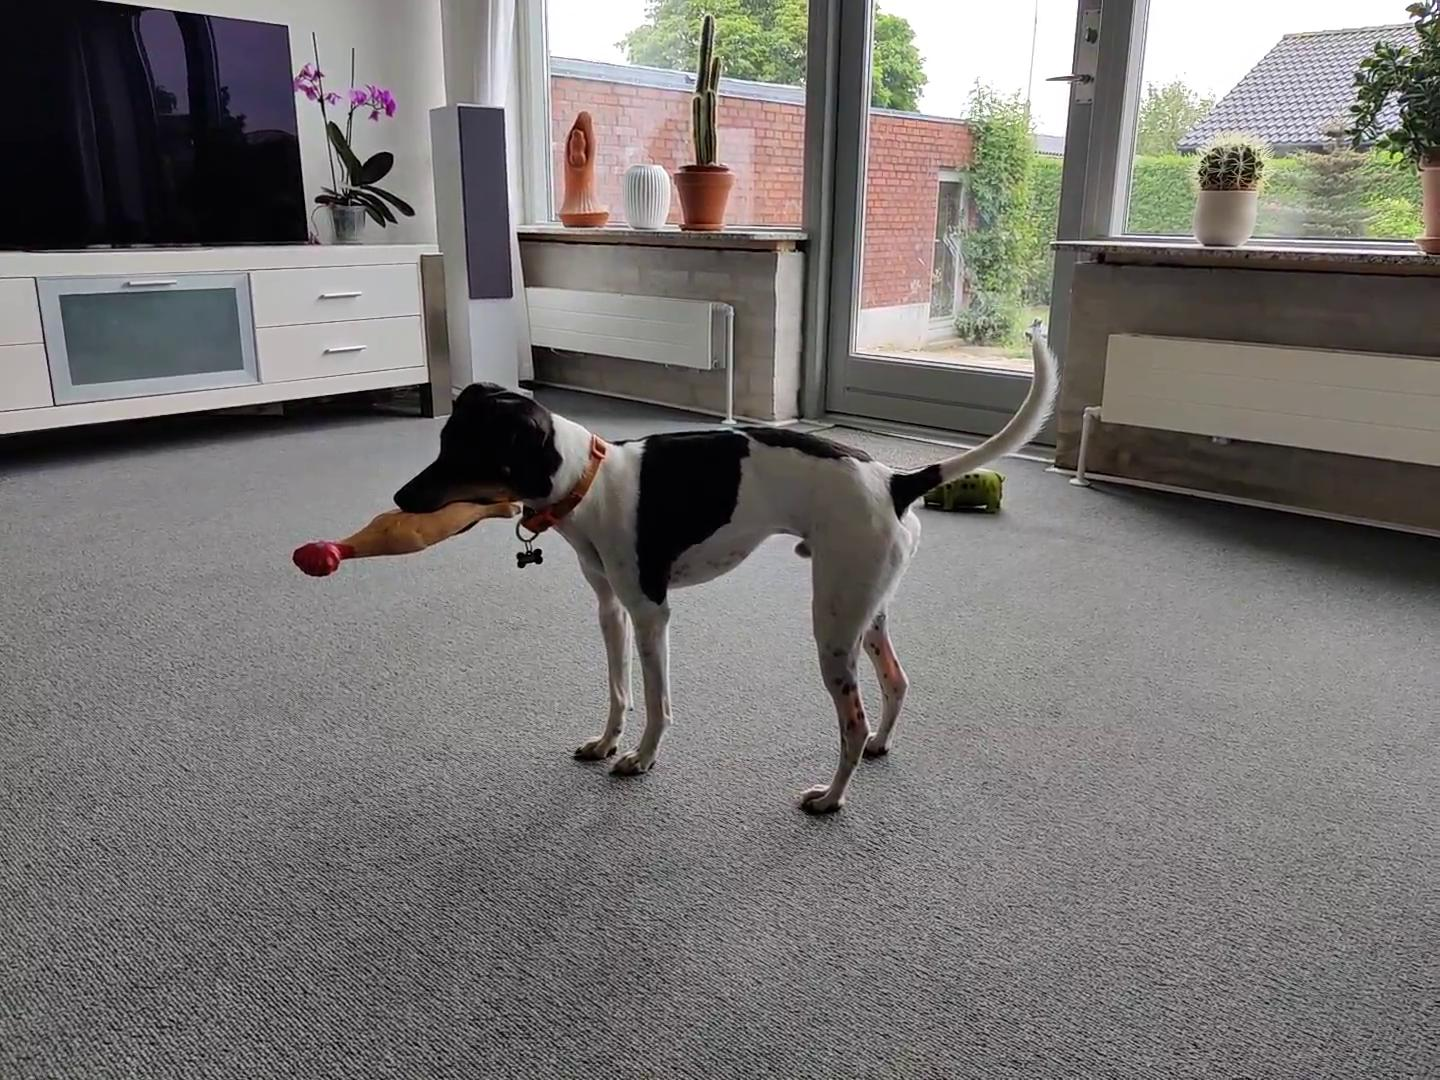Dog: (388, 317, 1064, 813)
